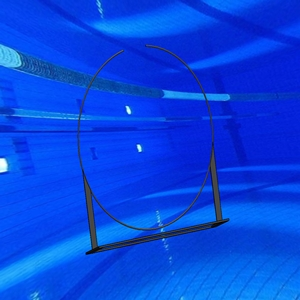circle: (77, 43, 231, 256)
